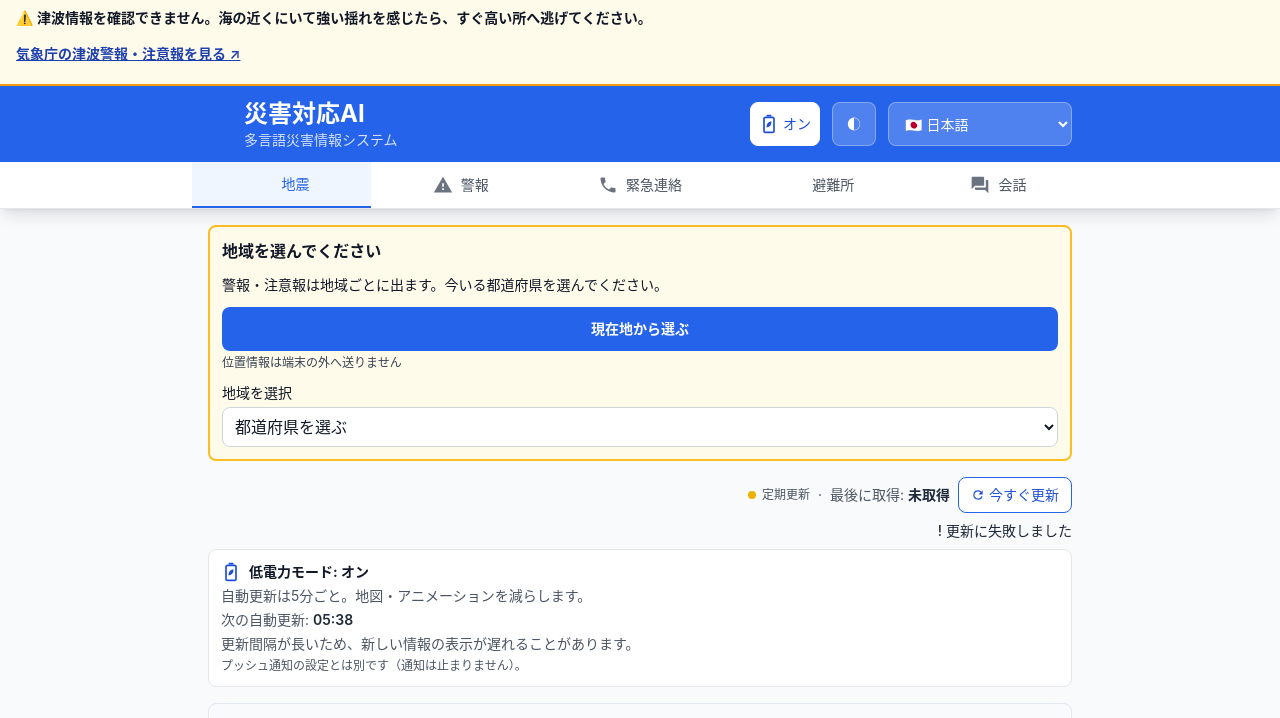
Test: page.tsx — 低電力モード › 津波だけ取れていない間は、言語切替で地震が取れても失敗表示を消さない
This screenshot has width=1280, height=718.
Check: the element with test id "fetch-failed" is shown, box [938,522,1072,539]
Check: the element with test id "last-success" shows "未取得", box [908,486,950,503]
言語を切り替える → page 側の地震の取り直しは成功する（津波は取れていない）
Select "🇺🇸 English" in the 1st dropdown: [980, 124] box [888,102,1072,146]
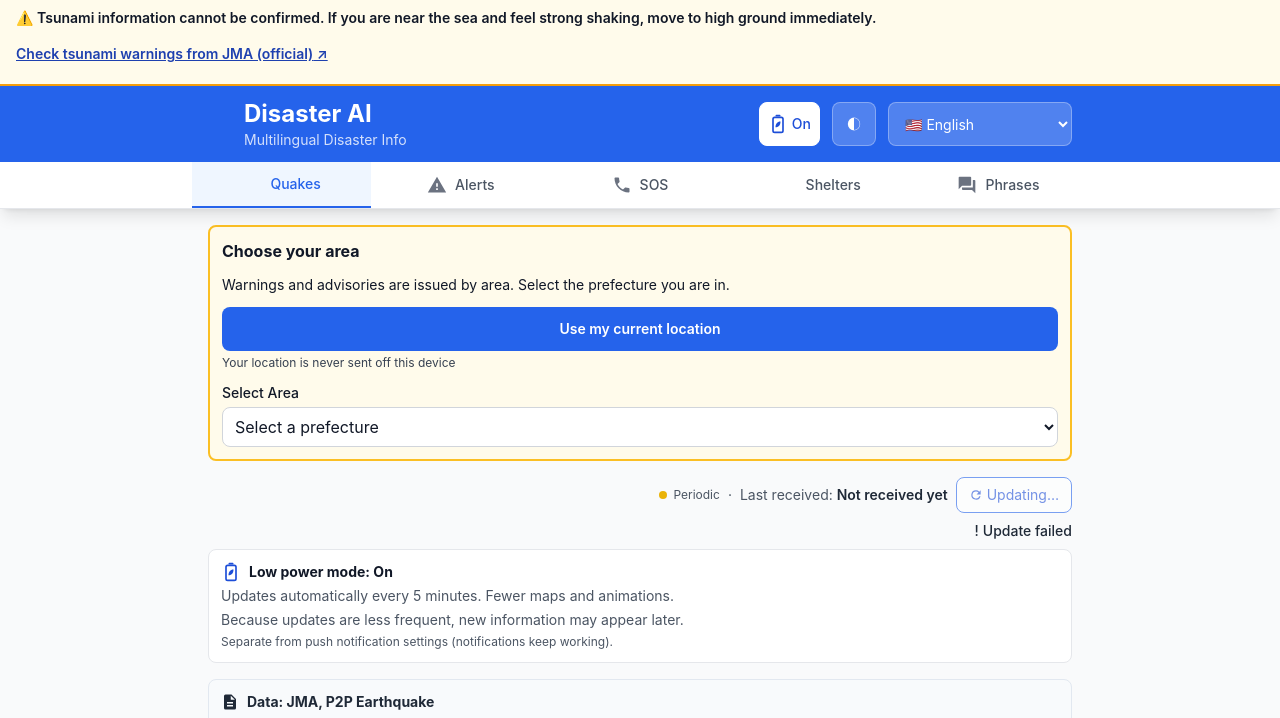
Check: the element with test id "fetch-failed" is shown, box [975,522,1072,539]
Check: the element with test id "last-success" shows "Not received yet", box [837,486,948,503]
